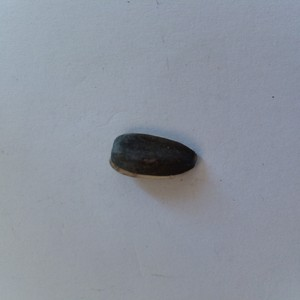girasol: (103, 129, 200, 180)
